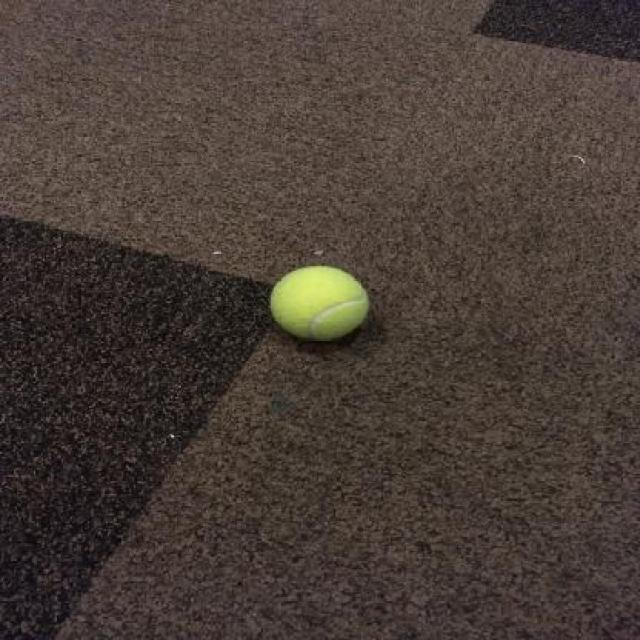Tennis_Ball: (269, 263, 368, 348)
